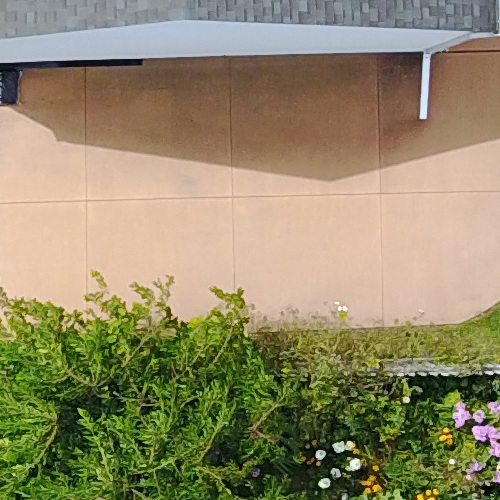gutter: (404, 41, 445, 130)
